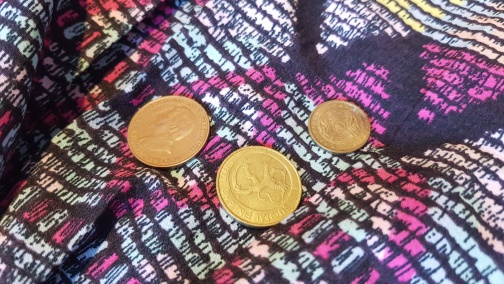coin: (215, 145, 302, 227), (127, 95, 211, 168), (308, 100, 371, 154)
